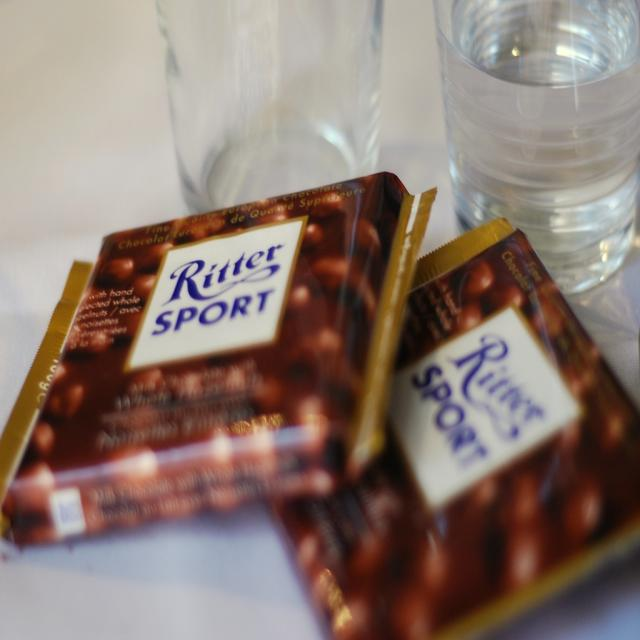rittersport: (386, 304, 581, 518), (125, 211, 310, 374)
